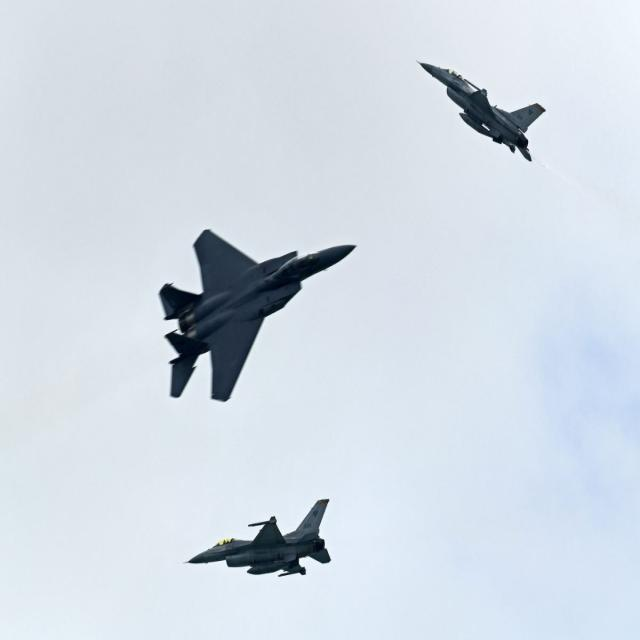MIL_Plane: (158, 228, 358, 403), (416, 60, 546, 162), (182, 498, 331, 578)
